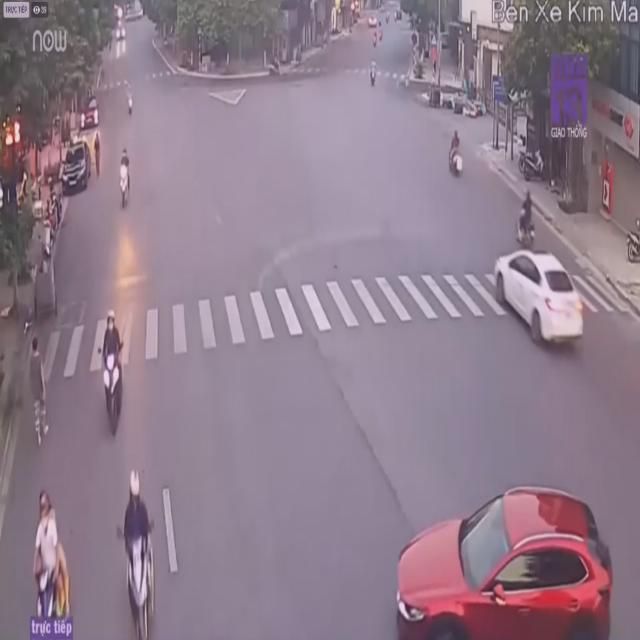car: (388, 480, 621, 638), (493, 246, 590, 355)
motorbike: (117, 470, 157, 638), (33, 492, 71, 629), (96, 309, 129, 444), (514, 188, 537, 252), (118, 148, 136, 212), (448, 127, 464, 179)
